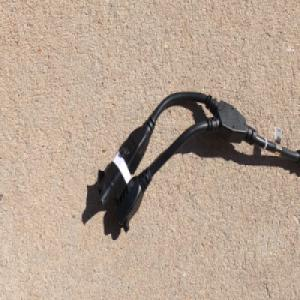Wire: (96, 90, 300, 235)
